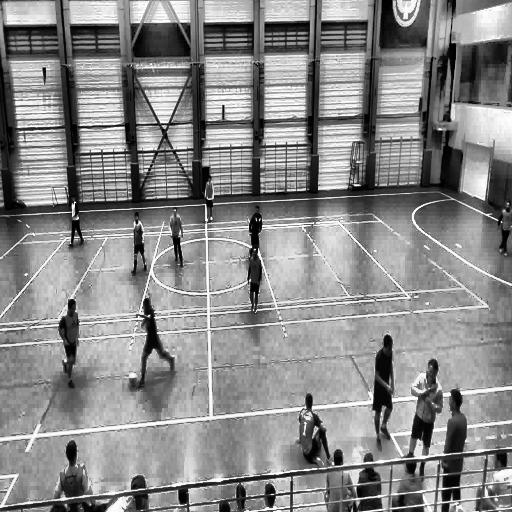ball: (129, 371, 138, 385)
player: (408, 358, 442, 476), (136, 299, 175, 385), (440, 388, 467, 512), (373, 331, 394, 448), (59, 295, 80, 385), (248, 244, 263, 312), (132, 211, 148, 274), (248, 203, 264, 260), (496, 200, 512, 256), (70, 194, 86, 246), (170, 208, 184, 266), (204, 174, 215, 223)
